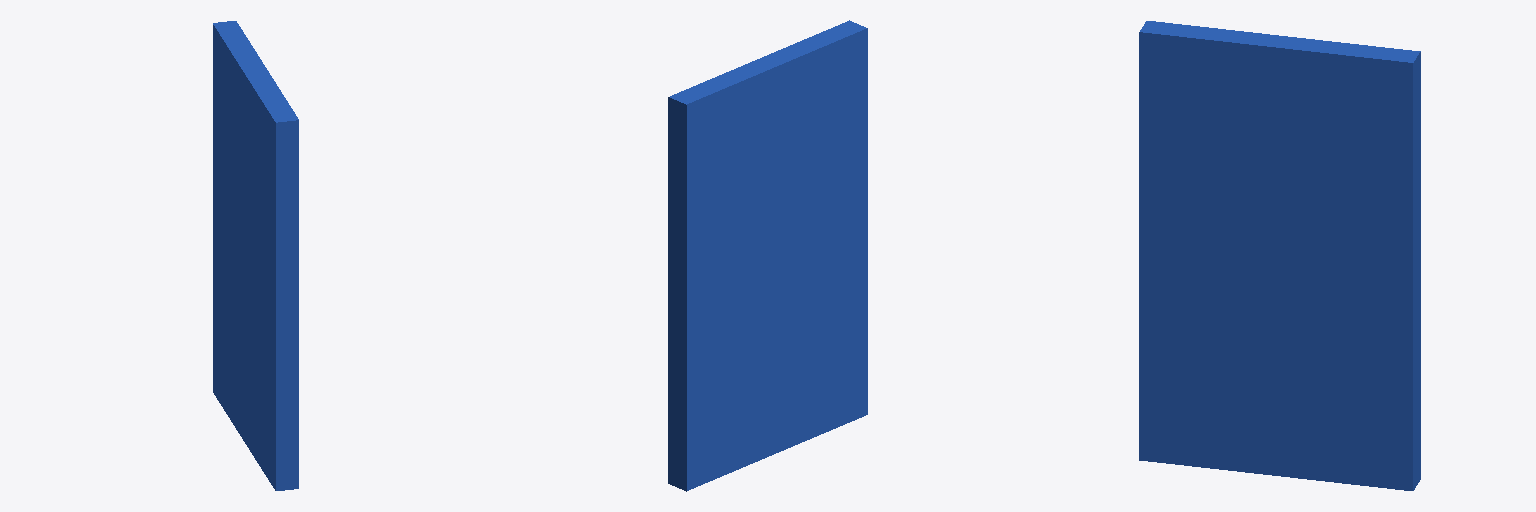
robot.urdf — Domino_14:
<robot name="Domino_14" version="1.0">
  <link name="Domino_14_link">
    <collision name="Cube.013_collision">
      <origin rpy="0.00000 0.00000 1.30900" xyz="-0.53479 0.96850 0.25000"/>
      <geometry>
        <box size="0.30000 0.03000 0.50000"/>
      </geometry>
    </collision>
    <inertial>
      <inertia ixx="0.00278" ixy="-0.00019" ixz="0.00000" iyy="0.00214" iyz="0.00000" izz="0.00076"/>
      <origin rpy="0.00000 0.00000 0.00000" xyz="-0.53479 0.96850 0.25000"/>
      <mass value="0.10000"/>
    </inertial>
    <visual name="Cube.013">
      <material name="turnarrow"/>
      <origin rpy="0.00000 0.00000 1.30900" xyz="-0.53479 0.96850 0.25000"/>
      <geometry>
        <box size="0.30000 0.03000 0.50000"/>
      </geometry>
    </visual>
  </link>
  <material name="turnarrow">
    <color rgba="0.23137 0.44706 0.80000 1.00000"/>
  </material>
</robot>

--- What the picture shows (computed from the rendered views, not written in the file) ---
Views: 3 orthographic renders of the robot side by side, from view 1: azimuth 30°, elevation 25°; view 2: azimuth 150°, elevation 25°; view 3: azimuth 270°, elevation 25°.
Model Domino_14 with 1 links and 0 joints (none), rooted at Domino_14_link, posed every joint at zero.
Links seen in each view (by area): view 1: Domino_14_link; view 2: Domino_14_link; view 3: Domino_14_link.
Link boxes in pixels (left/top/right/bottom): Domino_14_link: left=213, top=21, right=298, bottom=490; Domino_14_link: left=668, top=20, right=867, bottom=491; Domino_14_link: left=1139, top=21, right=1420, bottom=490.
Size in the robot's own frame: 0.1066 by 0.2975 by 0.5 metres.
Geometry: primitives only (box / cylinder / sphere), no mesh files.